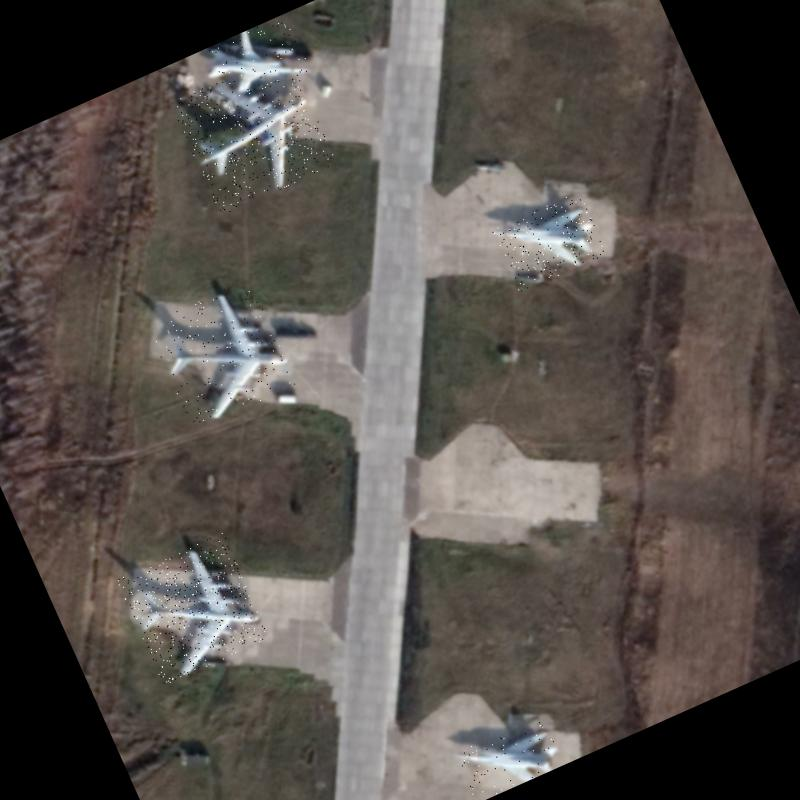A12: (490, 191, 608, 293), (196, 13, 312, 112), (454, 714, 565, 800)
A17: (170, 50, 338, 216), (146, 277, 300, 431), (116, 532, 270, 686)
